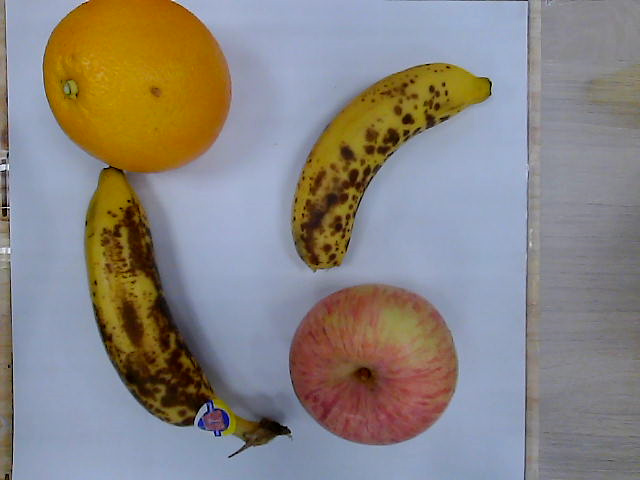fresh_apple: (288, 284, 459, 444)
fresh_orange: (42, 1, 233, 173)
rotten_banana: (86, 168, 287, 454), (292, 63, 492, 271)
